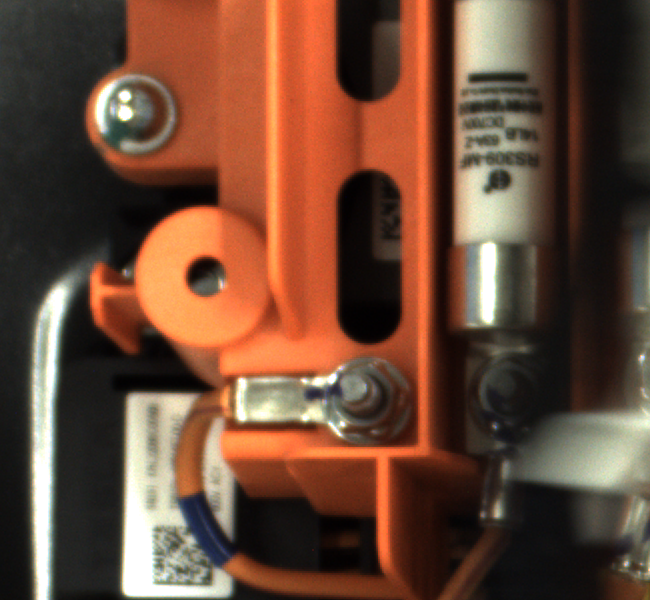screw_m: (87, 63, 202, 168)
screw_s: (312, 353, 405, 448)
